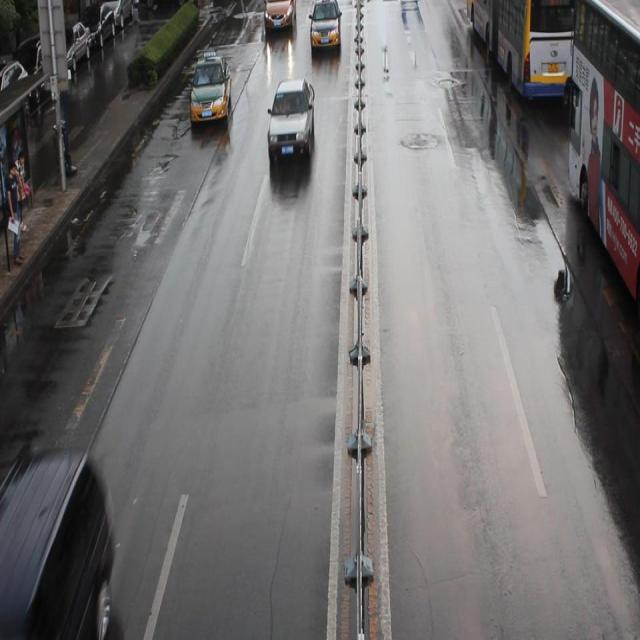car: (267, 77, 314, 160), (190, 52, 231, 123), (309, 1, 340, 49), (264, 2, 296, 34)
truck: (0, 452, 115, 640)
van: (565, 1, 640, 312), (464, 2, 582, 98)
